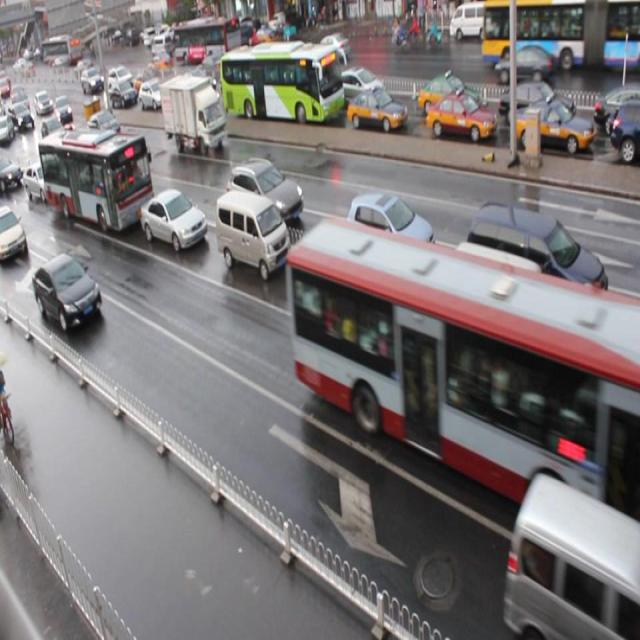bus: (160, 74, 228, 156)
car: (299, 228, 402, 322), (344, 193, 433, 272), (226, 158, 304, 234), (31, 253, 102, 332), (514, 99, 594, 159), (138, 187, 206, 252), (425, 92, 496, 144), (498, 82, 573, 128), (608, 331, 640, 435), (414, 76, 479, 120), (345, 87, 406, 133), (333, 64, 390, 110), (589, 91, 640, 135), (608, 99, 640, 160), (1, 204, 29, 267), (21, 158, 60, 203), (180, 82, 220, 114), (88, 111, 122, 146), (221, 69, 255, 104), (178, 69, 215, 97), (139, 80, 171, 111), (43, 117, 67, 151), (108, 81, 134, 110), (1, 156, 22, 189), (133, 69, 159, 93)
truck: (504, 469, 640, 632), (438, 240, 566, 388), (465, 200, 607, 332), (213, 187, 289, 281)
van: (287, 213, 640, 551), (37, 126, 154, 235), (216, 42, 339, 125)
